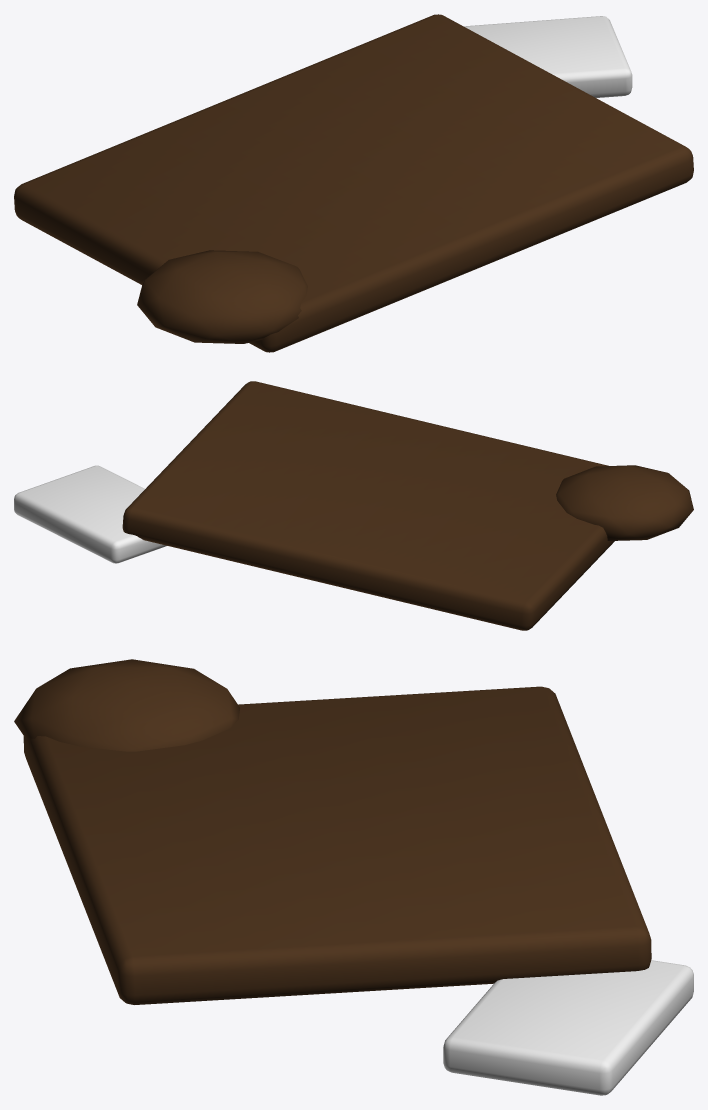
File: animal-hide.obj
The picture shows the model from 3 angles, top to bottom: view 1: azimuth 30°, elevation 25°; view 2: azimuth 150°, elevation 25°; view 3: azimuth 270°, elevation 25°; orthographic projection. The views are drawn at different scales.
Parts seen in each view (by area): view 1: animal-hide; view 2: animal-hide; view 3: animal-hide.
Boxes of the visible parts, x1,y1,x2,y2 form: animal-hide: [14, 14, 693, 352]; animal-hide: [14, 381, 693, 630]; animal-hide: [14, 659, 693, 1095].
Bounding box in the file's own units: 0.743 × 0.0766 × 0.5297.
